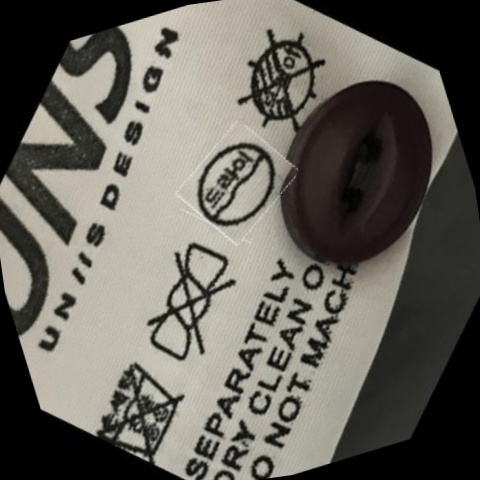DN_dry: (223, 22, 341, 141)
DN_wring: (125, 238, 258, 371)
dry_clean: (184, 129, 291, 239)
hand_wash: (84, 346, 197, 467)
